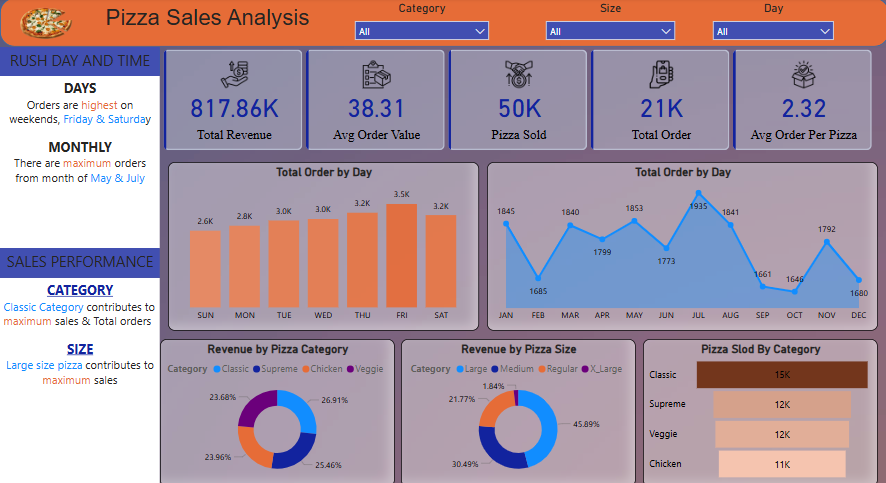

What the dashboard file says about the page in this screenshot:
{"tool":"powerbi","page":{"name":"Page 1","canvas":[1280,720],"ordinal":0},"visuals":[{"type":"shape","box":[0,70.6,230.4,41.8],"z":0},{"type":"columnChart","title":"Total Order by Day","fields":{"Y":["Measure.Total_Order"],"Category":["pizza_sales.Day Name"]},"box":[241.9,236.2,447.8,243.4],"z":1000},{"type":"donutChart","title":"Revenue by Pizza Category","fields":{"Y":["Measure.Revune"],"Category":["pizza_sales.pizza_category"]},"box":[230,491.2,337.5,212.5],"z":2000},{"type":"cardVisual","fields":{"Data":["Measure.Revune","Measure.Avg_order_Value","Measure.Pizza_Sold","Measure.Total_Order","Measure.Avg_Order_Per_Pizza"]},"box":[230,68.8,1033.8,155],"z":3000},{"type":"lineChart","title":"Total Order by Day","fields":{"Category":["pizza_sales.Month Name"],"Y":["Measure.Total Order"]},"box":[701.3,236.2,563,243.4],"z":4000},{"type":"donutChart","title":"Revenue by Pizza Size","fields":{"Y":["Measure.Revune"],"Category":["pizza_sales.pizza_size"]},"box":[578.1,491.2,337.5,212.5],"z":5000},{"type":"funnel","title":"Pizza Slod By Category","fields":{"Y":["Measure.Pizza_Sold"],"Category":["pizza_sales.pizza_category"]},"box":[926.2,491.2,337.5,212.5],"z":6000},{"type":"shape","box":[0,0,1280,70],"z":9000},{"type":"textbox","box":[0,70.6,230.4,41.8],"z":13000},{"type":"textbox","box":[0,112.3,230.4,247.7],"z":14000},{"type":"textbox","box":[0,360,230.4,43.2],"z":15000},{"type":"textbox","box":[0,403.2,230.4,301],"z":16000},{"type":"textbox","box":[115.2,4.3,367.2,60.5],"z":18000},{"type":"image","box":[15.8,0,99.4,70.6],"z":19000},{"type":"slicer","title":"Category","fields":{"Values":["pizza_sales.pizza_category"]},"box":[501.1,4.3,213.1,60.5],"z":20000},{"type":"slicer","title":"Size","fields":{"Values":["pizza_sales.pizza_size"]},"box":[776.2,4.3,205.9,60.5],"z":21000},{"type":"slicer","title":"Day","fields":{"Values":["pizza_sales.Day Name"]},"box":[1016.6,4.3,194.4,60.5],"z":22000}]}

Visuals, with their boxes on the page's 1280x720 design canvas (x1, y1, x2, y2). These are canvas units, not pixel positions in the 886x483 screenshot, which may show the page scaled, cropped or inside an application window:
shape: [x1=0, y1=71, x2=230, y2=112]
"Total Order by Day" columnChart: [x1=242, y1=236, x2=690, y2=480]
"Revenue by Pizza Category" donutChart: [x1=230, y1=491, x2=568, y2=704]
cardVisual - Measure.Revune x Measure.Avg_order_Value: [x1=230, y1=69, x2=1264, y2=224]
"Total Order by Day" lineChart: [x1=701, y1=236, x2=1264, y2=480]
"Revenue by Pizza Size" donutChart: [x1=578, y1=491, x2=916, y2=704]
"Pizza Slod By Category" funnel: [x1=926, y1=491, x2=1264, y2=704]
shape: [x1=0, y1=0, x2=1280, y2=70]
textbox: [x1=0, y1=71, x2=230, y2=112]
textbox: [x1=0, y1=112, x2=230, y2=360]
textbox: [x1=0, y1=360, x2=230, y2=403]
textbox: [x1=0, y1=403, x2=230, y2=704]
textbox: [x1=115, y1=4, x2=482, y2=65]
image: [x1=16, y1=0, x2=115, y2=71]
"Category" slicer: [x1=501, y1=4, x2=714, y2=65]
"Size" slicer: [x1=776, y1=4, x2=982, y2=65]
"Day" slicer: [x1=1017, y1=4, x2=1211, y2=65]
